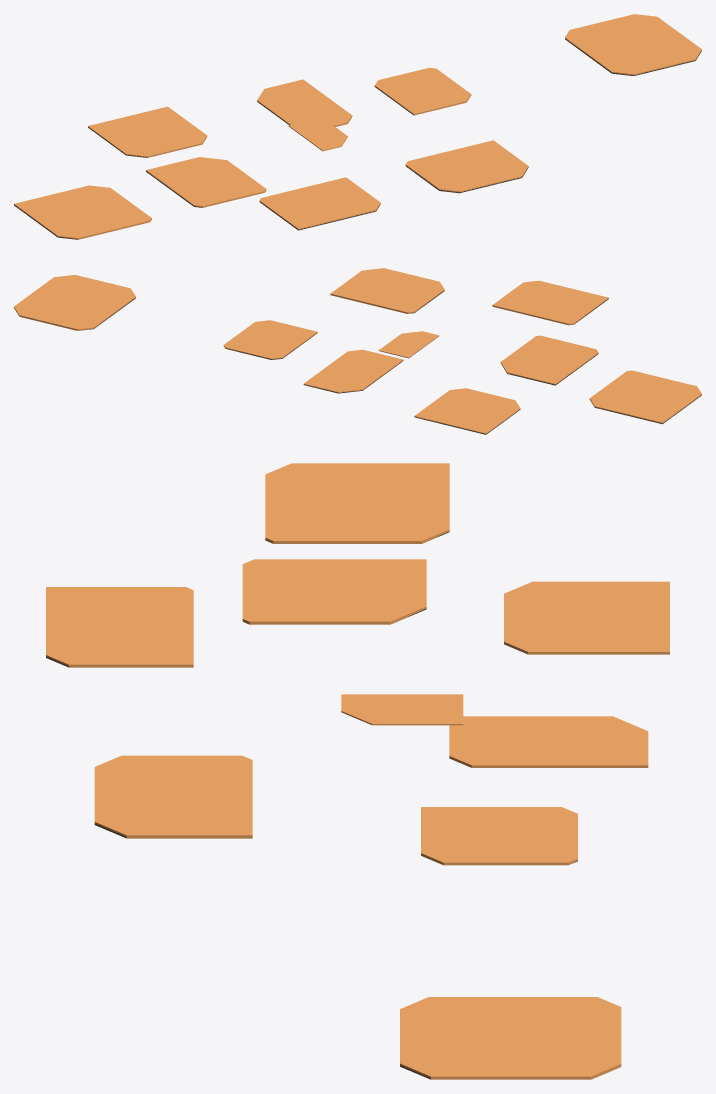
File: mapplatforms.fbx
The picture shows the model from 3 angles, top to bottom: view 1: azimuth 30°, elevation 25°; view 2: azimuth 150°, elevation 25°; view 3: azimuth 270°, elevation 25°; orthographic projection. The views are drawn at different scales.
Parts seen in each view (by area): view 1: platform9, platform1, platform7, platform4, platform3, platform2, platform8, platform6, platform5; view 2: platform9, platform1, platform7, platform4, platform3, platform2, platform6, platform8, platform5; view 3: platform9, platform1, platform7, platform3, platform2, platform4, platform6, platform8, platform5.
Part boxes in pixels (box(x1,y1,x2,y2)): platform9: box(565, 14, 701, 75); platform1: box(14, 185, 151, 239); platform7: box(405, 140, 528, 193); platform4: box(259, 177, 380, 230); platform3: box(88, 106, 207, 157); platform2: box(146, 157, 266, 207); platform8: box(374, 67, 471, 115); platform6: box(257, 79, 352, 126); platform5: box(288, 117, 347, 151); platform9: box(14, 275, 135, 330); platform1: box(589, 370, 701, 424); platform7: box(330, 268, 444, 313); platform4: box(492, 280, 608, 325); platform3: box(414, 388, 520, 434); platform2: box(500, 335, 598, 385); platform6: box(303, 349, 403, 393); platform8: box(223, 320, 317, 359); platform5: box(378, 331, 439, 358); platform9: box(400, 997, 621, 1079); platform1: box(265, 463, 449, 543); platform7: box(94, 755, 252, 838); platform3: box(504, 581, 669, 654); platform2: box(242, 559, 426, 624); platform4: box(46, 587, 193, 667); platform6: box(449, 716, 648, 767); platform8: box(421, 807, 577, 865); platform5: box(341, 694, 463, 725).
Size of the model in its own units: 111097 by 3919 by 48927.
Materials: 2 (2 with a texture image).
